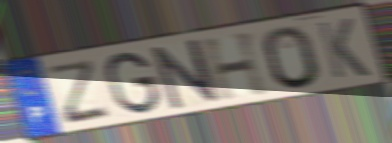G: (103, 50, 163, 117)
H: (200, 28, 273, 104)
K: (314, 16, 373, 82)
N: (149, 36, 222, 112)
O: (261, 24, 323, 92)
Z: (48, 57, 111, 127)
